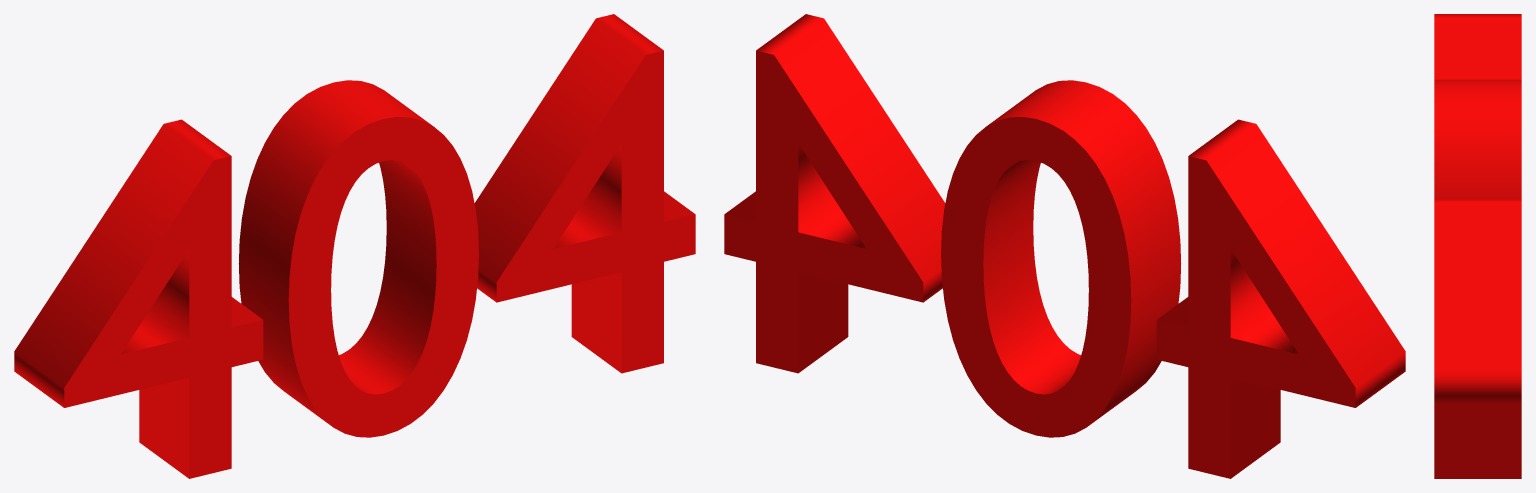
The picture shows the model from 3 angles, left to right: view 1: azimuth 30°, elevation 25°; view 2: azimuth 150°, elevation 25°; view 3: azimuth 270°, elevation 25°; orthographic projection. The views are drawn at different scales.
Parts seen in each view (by area): view 1: Text; view 2: Text; view 3: Text.
Boxes of the visible parts, x1,y1,x2,y2 form: Text: [14, 14, 695, 478]; Text: [724, 14, 1405, 478]; Text: [1434, 14, 1521, 478].
Bounding box in the file's own units: 1.46 × 0.7 × 0.2.
